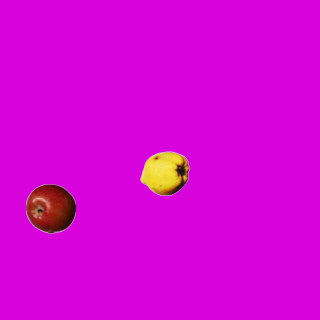Apple Braeburn: (25, 183, 75, 233)
Quince: (139, 148, 189, 198)
